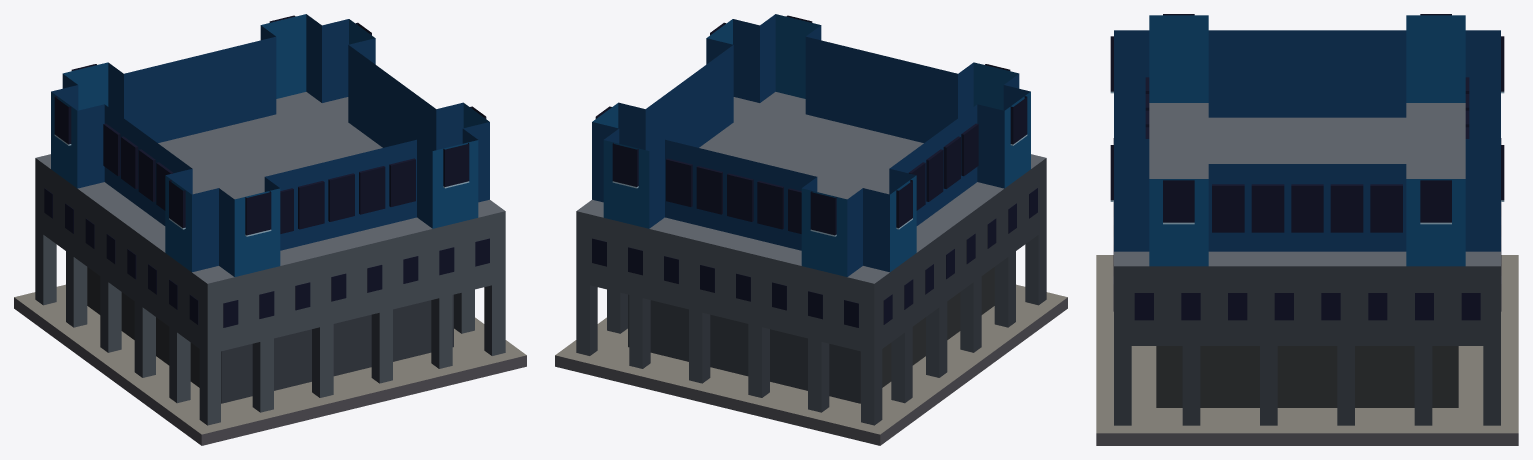
File: TB_CITY_Skysc_I_Bottom_Blue.FBX
3 views of the same model, side by side, from view 1: azimuth 30°, elevation 25°; view 2: azimuth 150°, elevation 25°; view 3: azimuth 270°, elevation 25° (orthographic). The views are drawn at different scales.
Visible parts, largest first — view 1: TB_CITY_Skysc_I_Bottom_Blue; view 2: TB_CITY_Skysc_I_Bottom_Blue; view 3: TB_CITY_Skysc_I_Bottom_Blue.
Part boxes in pixels (x1,y1,x2,y2): TB_CITY_Skysc_I_Bottom_Blue: (14, 14, 526, 445); TB_CITY_Skysc_I_Bottom_Blue: (555, 14, 1067, 445); TB_CITY_Skysc_I_Bottom_Blue: (1096, 14, 1518, 445).
Bounding box in the file's own units: 24 × 16.29 × 24.
